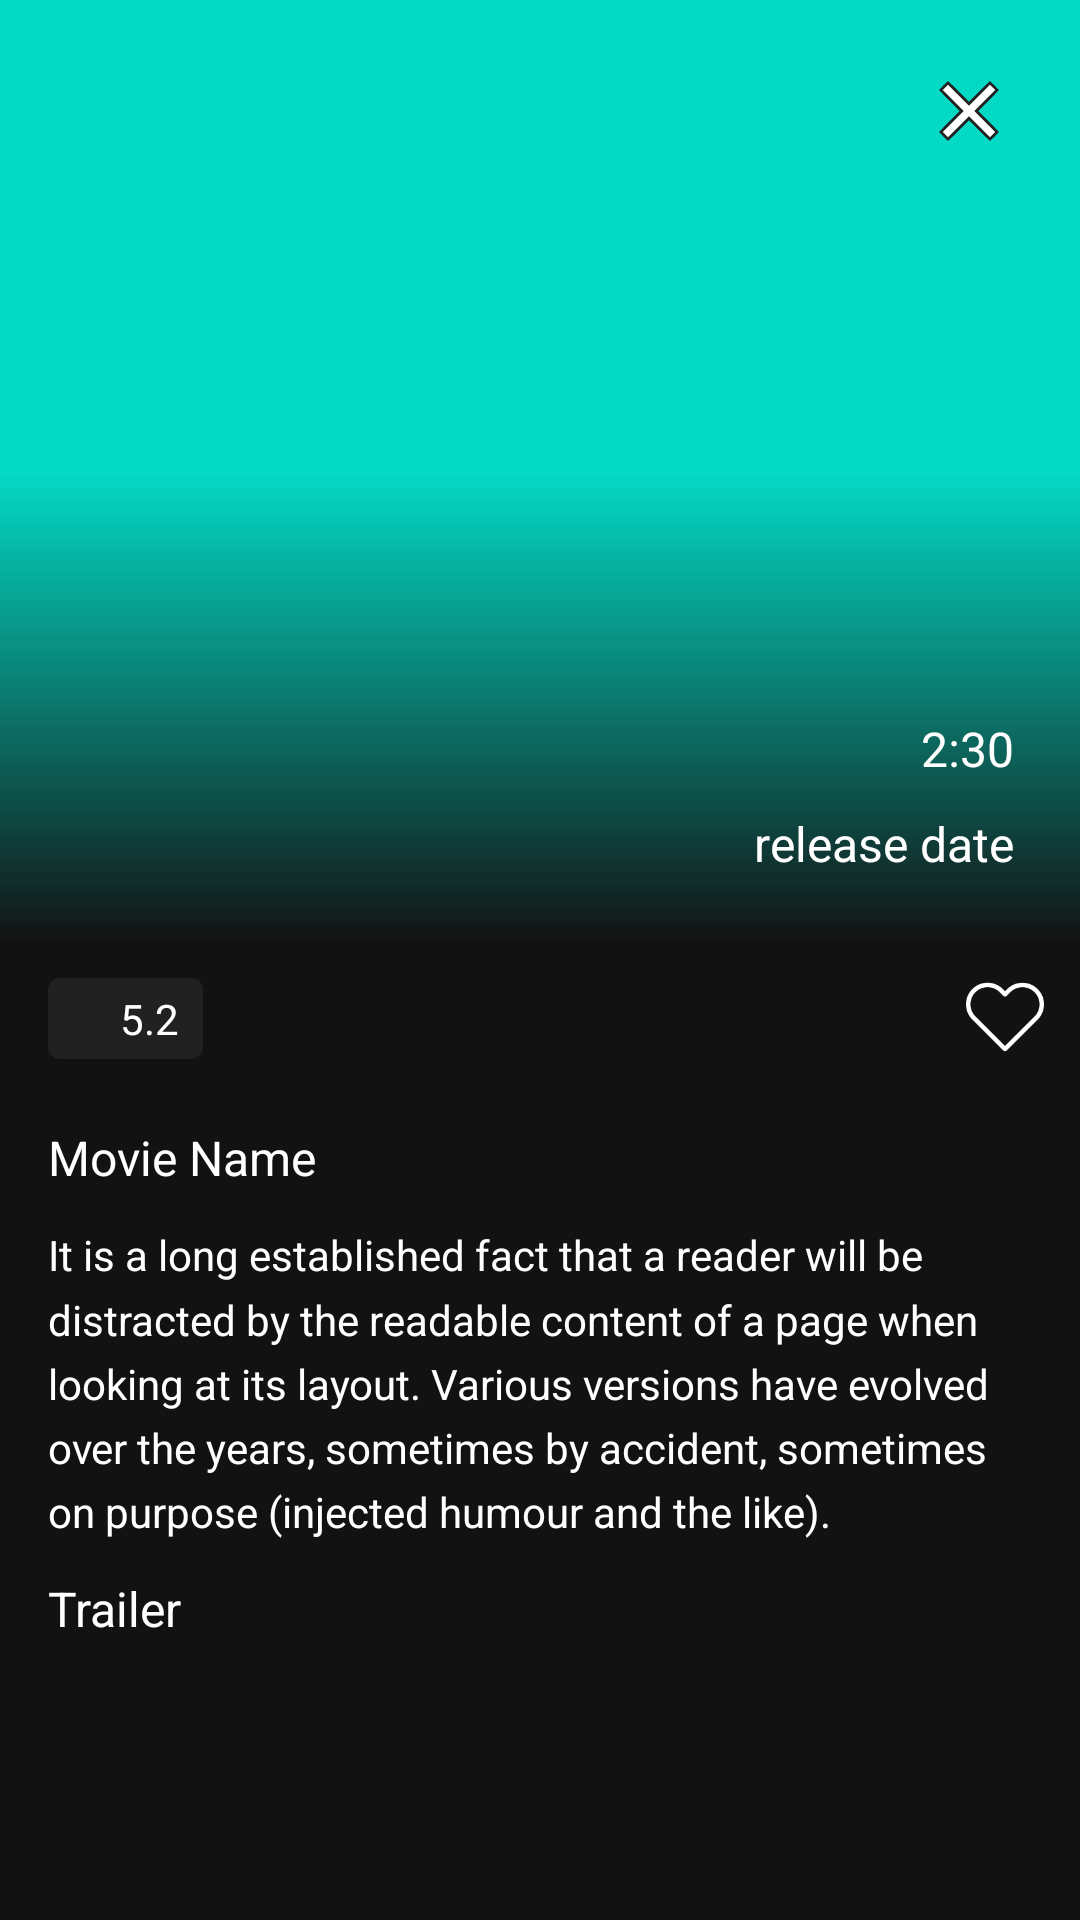

Named icons in this screenshot (1080px×1920px) and their bounding boxes, rect(x1, y1, x2, y2):
heart: rect(966, 982, 1044, 1052)
